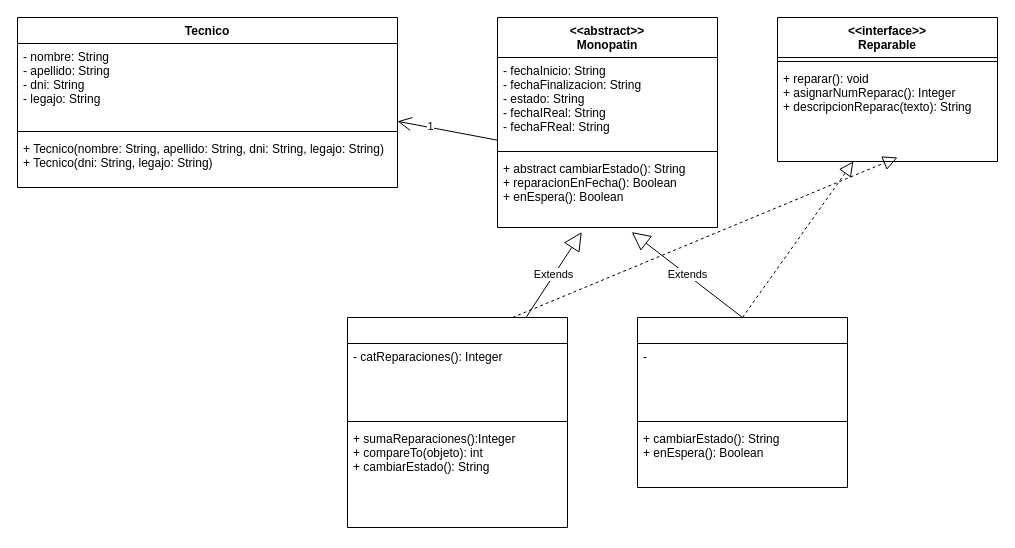
Some shapes in this 1015 by 548 pixel diagram are drawn without their labels. The box of each missing label's shape, as (x1, y1, x2, y2) in pixels:
MonopatinInicial: (636, 316, 848, 488)
MonopatinProfesional: (346, 316, 568, 528)
